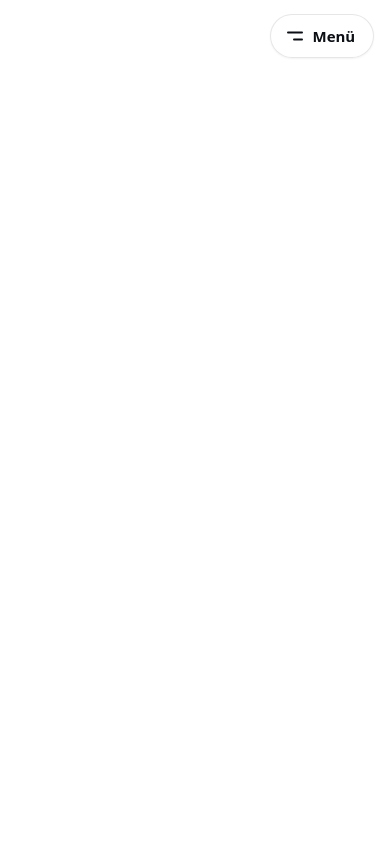
Test: Mobilnavigation — Aufbau › zeigt unter Standorte die fünf Ziele und den Hauptsitz
The width and height of the screenshot is (390, 844).
Click the button with aria-label "Navigation öffnen" at (322, 36), box [270,14,374,58]
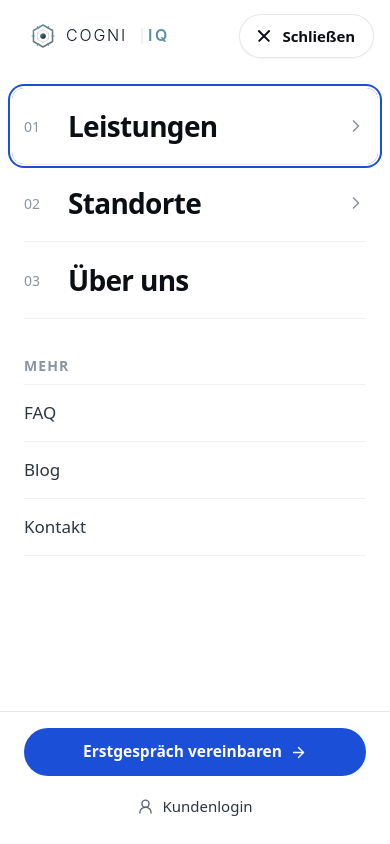
Click the button "02 Standorte" at (195, 203), box [12,165,378,241]
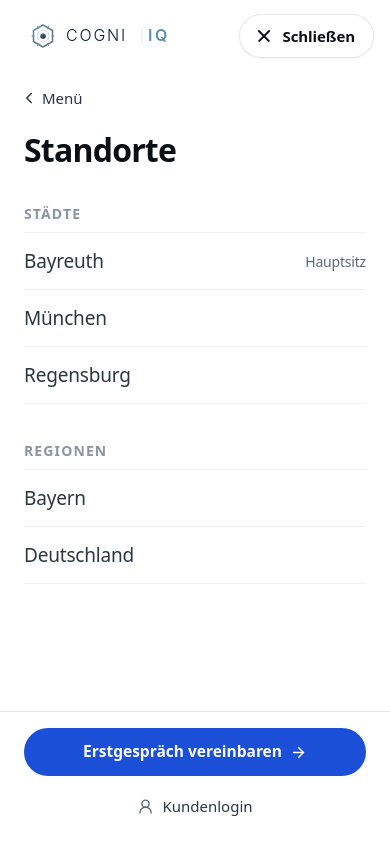
Result: the heading "Standorte" is shown at [24,128,176,171]
Result: the text "Hauptsitz" is shown at [305,252,366,271]
